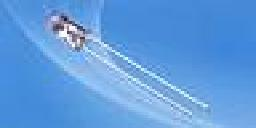LED: (45, 13, 210, 122)
